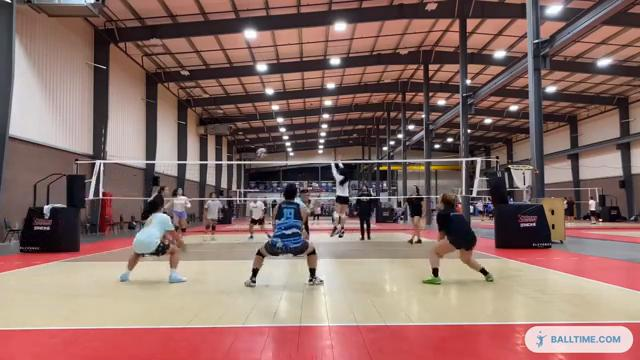Block: (325, 153, 350, 241)
Player: (245, 183, 322, 286), (423, 194, 493, 284), (120, 194, 185, 282), (165, 188, 190, 233), (406, 186, 425, 243), (356, 184, 373, 240), (141, 186, 167, 220), (204, 192, 221, 239), (248, 200, 264, 240), (295, 189, 309, 233)
ball: (258, 146, 268, 160)
